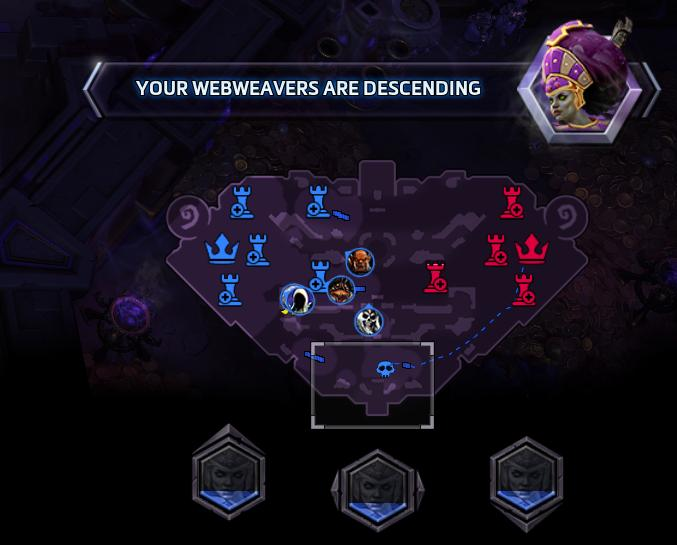blue player: (280, 282, 314, 316), (353, 303, 383, 336), (325, 274, 356, 305), (344, 247, 374, 277)
blue tower: (305, 183, 331, 218), (229, 184, 254, 220), (217, 271, 242, 306), (245, 232, 270, 266), (308, 258, 329, 293)
red nexus: (514, 232, 550, 264)
red tower: (498, 184, 524, 219), (511, 271, 536, 306), (483, 232, 508, 266), (423, 260, 448, 293)
